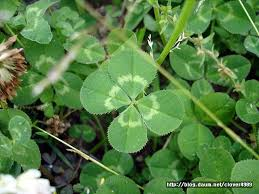4-clover: (81, 48, 186, 157)
